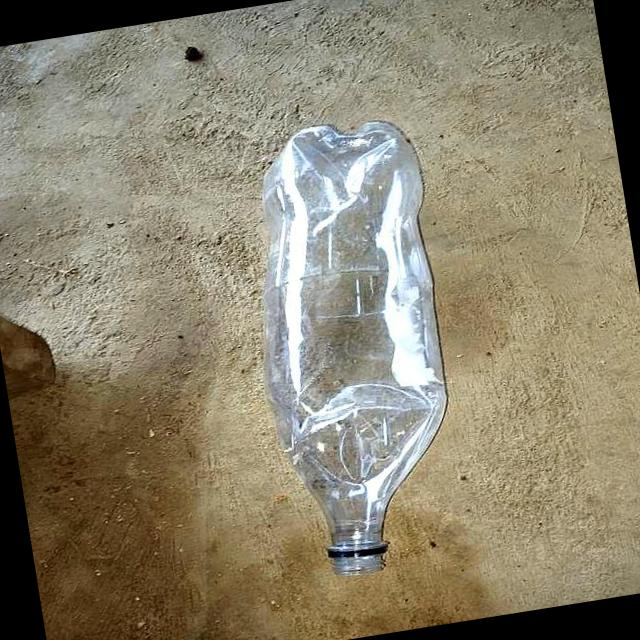Non-biodegradable: (224, 106, 487, 594)
